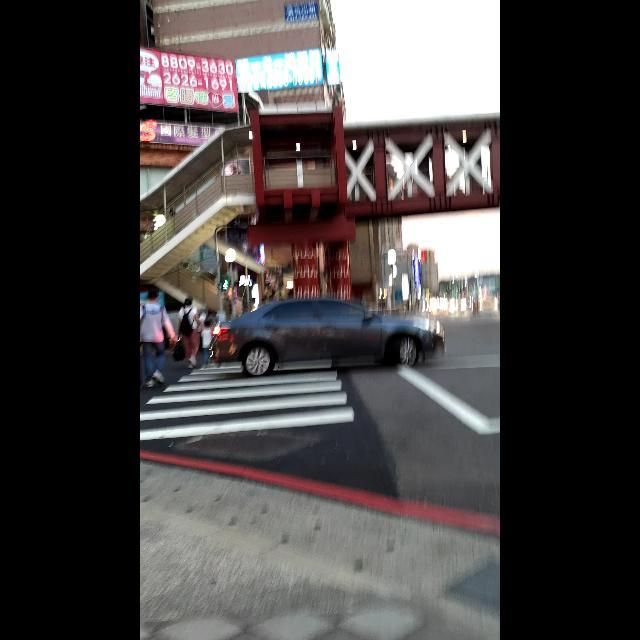sidewalk: (140, 355, 386, 500)
